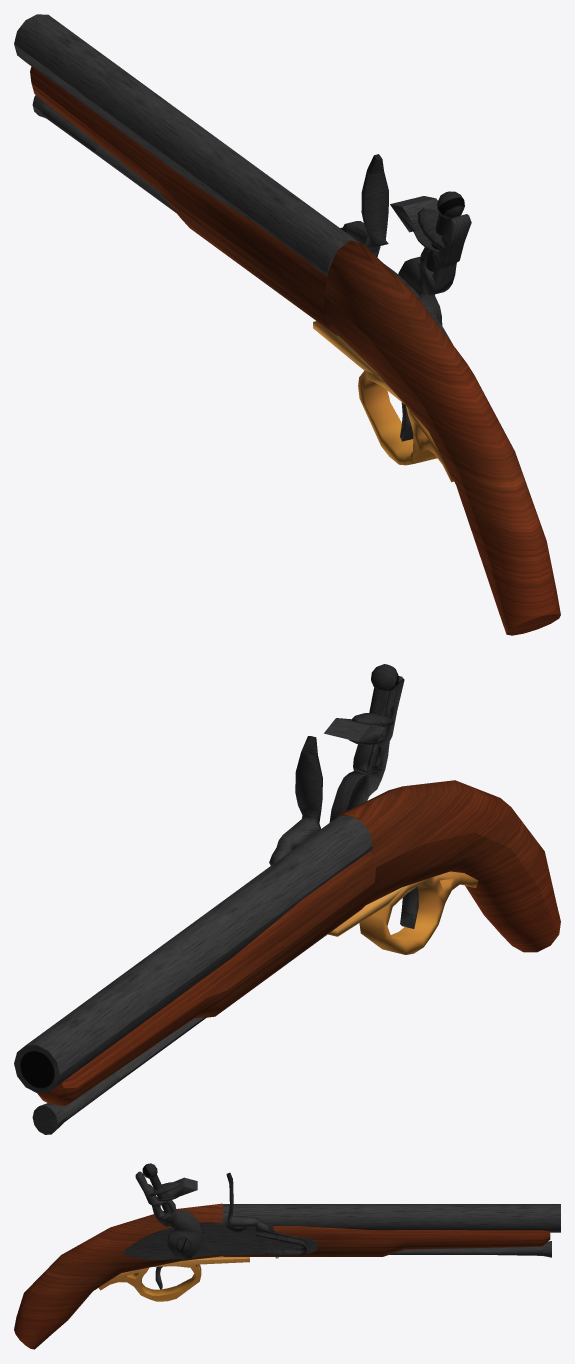
File: pistolview.fbx
3 renders of one model, top to bottom at view 1: azimuth 30°, elevation 25°; view 2: azimuth 150°, elevation 25°; view 3: azimuth 270°, elevation 25°, orthographic. The views are drawn at different scales.
Parts seen in each view (by area): view 1: Cylinder02, Cylinder03, Regroup02, Regroup00, Box01, Cylinder06, Box03; view 2: Cylinder02, Cylinder03, Regroup02, Regroup00, Box01, Cylinder06, Box03, Sphere03, Box04, Cylinder01; view 3: Cylinder02, Cylinder03, Regroup01, Regroup00, Regroup02, Cylinder06, Box01, Box02, Box03.
Part boxes in pixels (box(x1,y1,x2,y2)): Cylinder02: box(30, 66, 560, 635); Cylinder03: box(14, 14, 359, 276); Regroup02: box(313, 321, 453, 482); Regroup00: box(398, 214, 471, 325); Box01: box(340, 154, 388, 248); Cylinder06: box(32, 95, 176, 213); Box03: box(390, 196, 438, 232); Cylinder02: box(37, 780, 560, 1106); Cylinder03: box(14, 816, 372, 1093); Regroup02: box(328, 871, 478, 954); Regroup00: box(329, 676, 404, 822); Box01: box(269, 736, 322, 865); Cylinder06: box(32, 1017, 206, 1134); Box03: box(324, 718, 385, 741); Sphere03: box(371, 664, 398, 690); Box04: box(400, 886, 418, 928); Cylinder01: box(367, 688, 390, 766); Cylinder02: box(14, 1203, 550, 1349); Cylinder03: box(223, 1204, 560, 1232); Regroup01: box(122, 1222, 318, 1259); Regroup00: box(135, 1171, 201, 1259); Regroup02: box(98, 1256, 249, 1301); Cylinder06: box(389, 1241, 551, 1257); Box01: box(226, 1172, 268, 1232); Box02: box(256, 1229, 307, 1255); Box03: box(167, 1177, 197, 1197).
Size of the model in its own units: 1.23 by 5.54 by 14.31.
2 materials, 1 textured.
